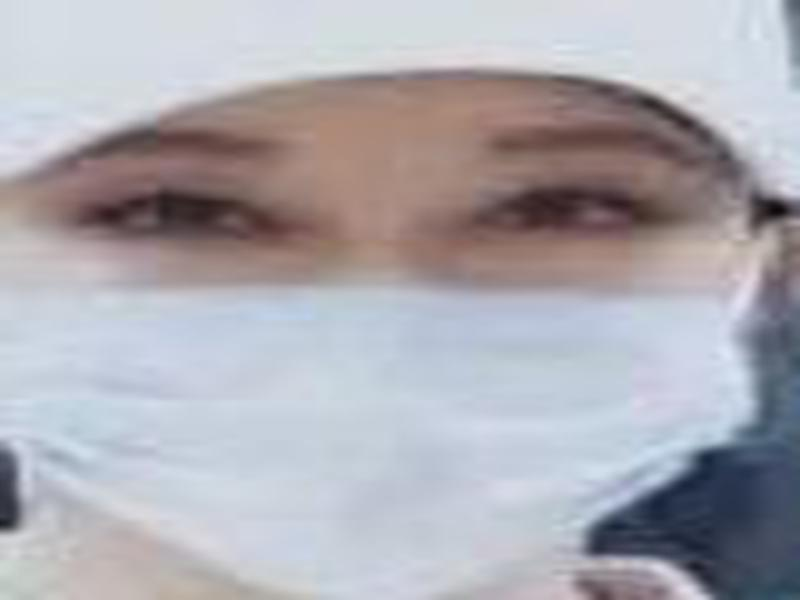with_mask: (1, 75, 797, 594)
